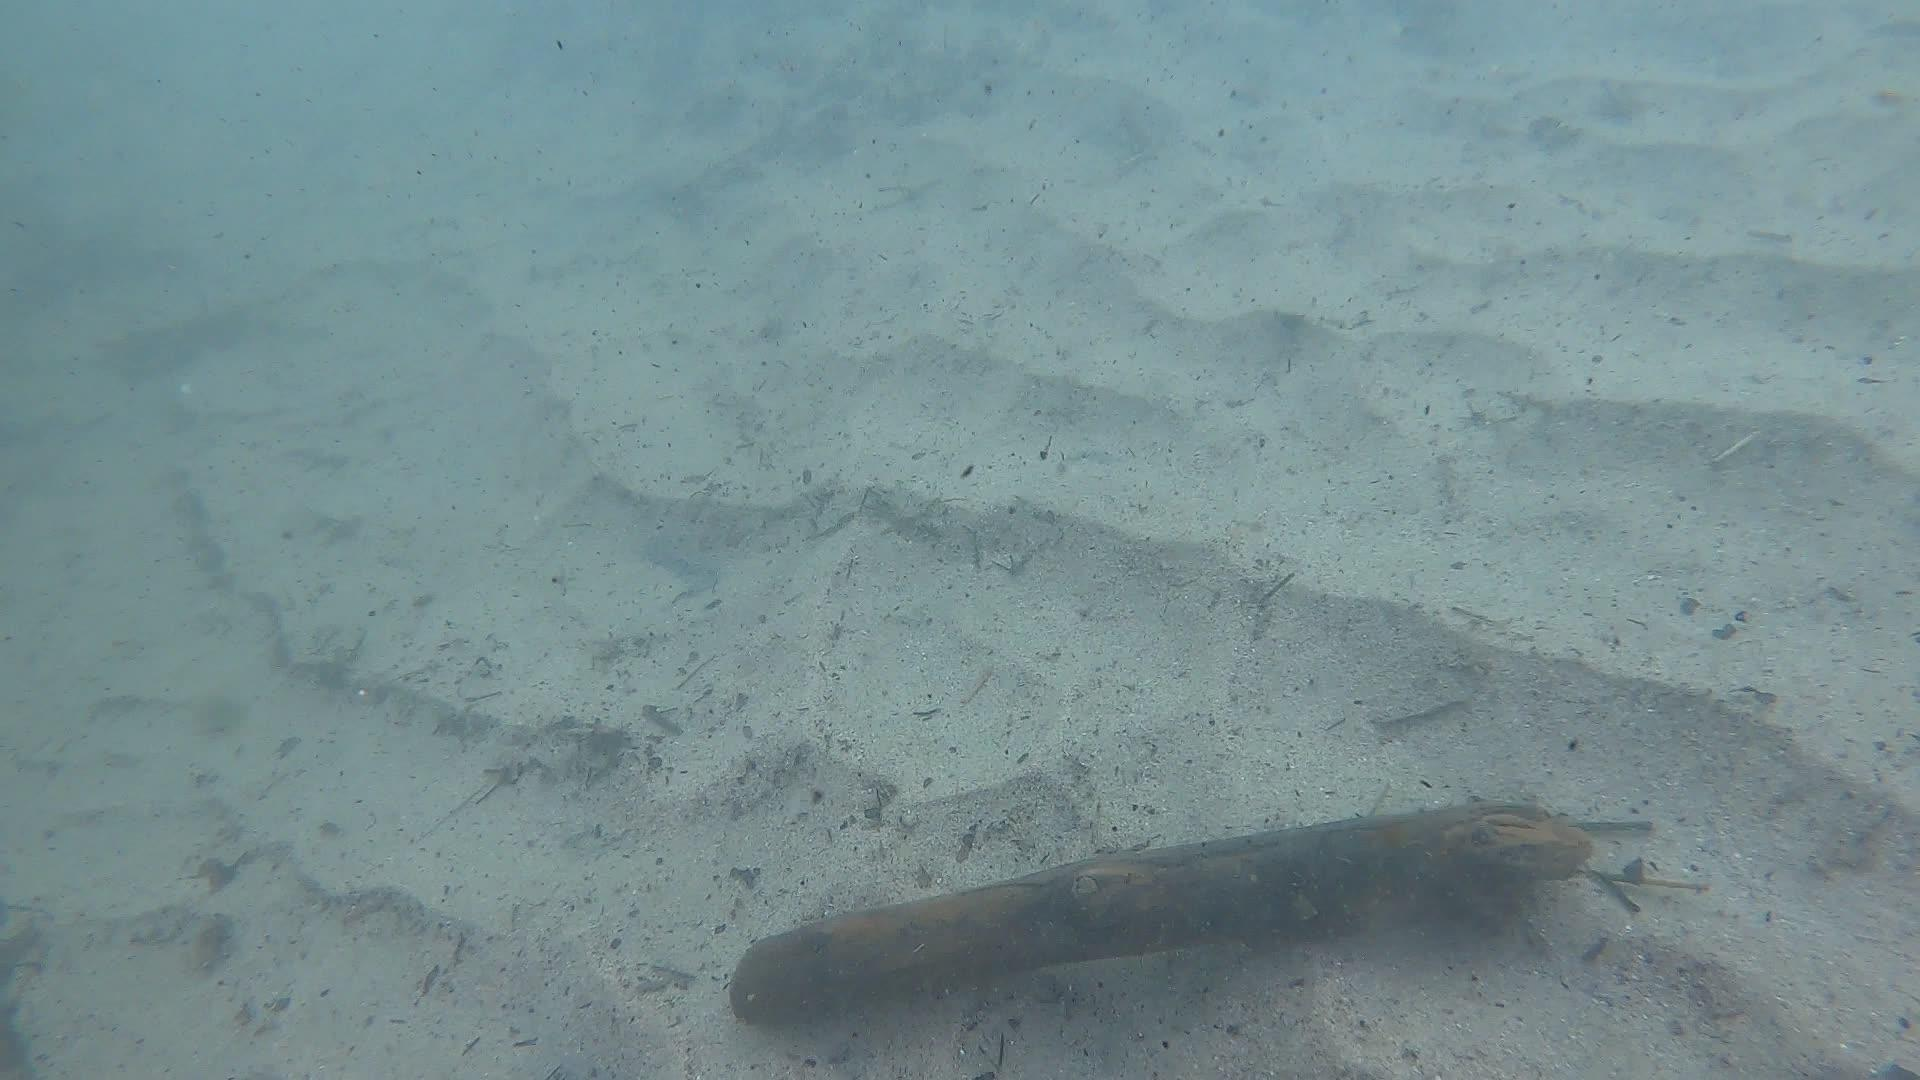wood: (728, 798, 1588, 1023)
